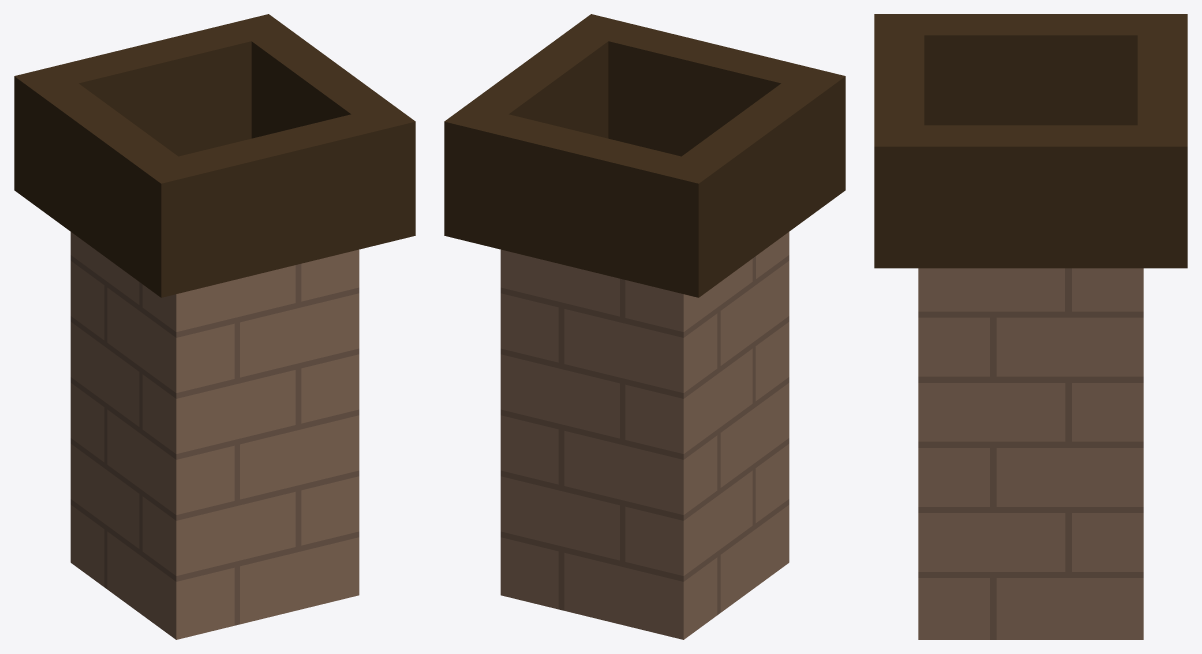
Rendered from Chimney1_C5.fbx.
3 views of the same model, side by side, from view 1: azimuth 30°, elevation 25°; view 2: azimuth 150°, elevation 25°; view 3: azimuth 270°, elevation 25° (orthographic). The views are drawn at different scales.
Visible parts, largest first — view 1: Chimney1_C5; view 2: Chimney1_C5; view 3: Chimney1_C5.
Boxes of the visible parts, x1,y1,x2,y2 form: Chimney1_C5: [14, 14, 415, 639]; Chimney1_C5: [444, 14, 845, 639]; Chimney1_C5: [874, 14, 1187, 639].
Size of the model in its own units: 55.59 by 100 by 55.59.
